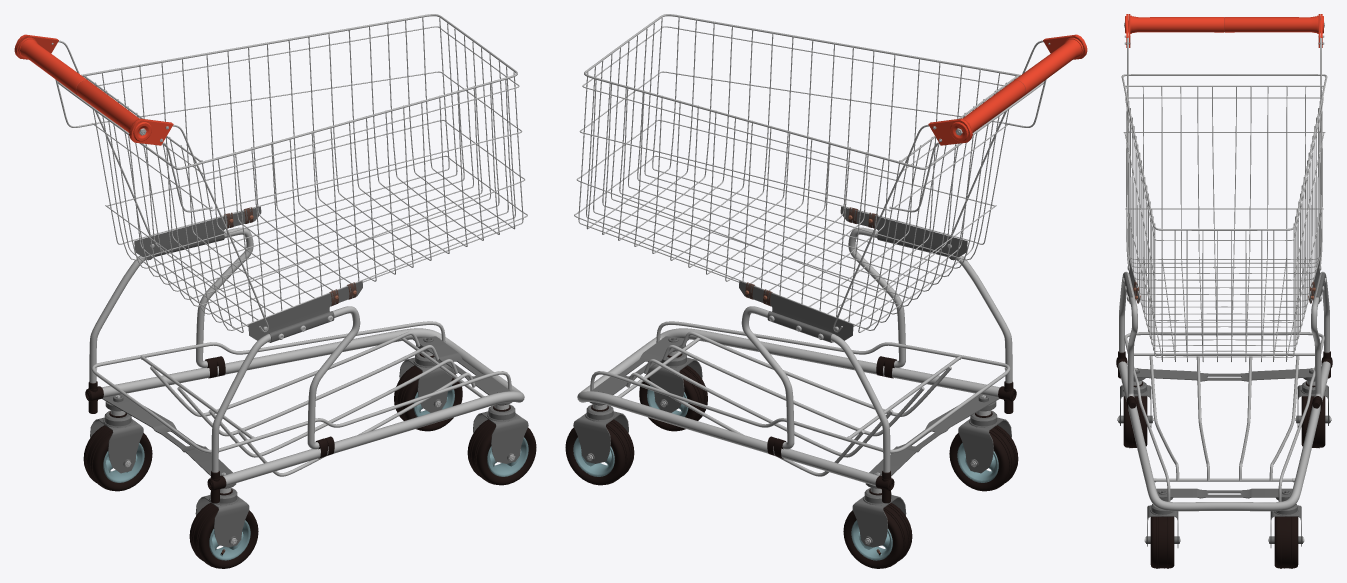
File: telegka.fbx
3 views of the same model, side by side, from view 1: azimuth 30°, elevation 25°; view 2: azimuth 150°, elevation 25°; view 3: azimuth 270°, elevation 25° (orthographic). The views are drawn at different scales.
Visible parts, largest first — view 1: BezierCurve.020, BezierCurve.004, BezierCurve, Plane.001, BezierCurve.003, BezierCurve.001, Cylinder.045, Cylinder.008, Plane.003, Cylinder.028, Plane.004, Plane.006 (+7 smaller); view 2: BezierCurve.020, BezierCurve.004, BezierCurve, Plane.001, BezierCurve.003, BezierCurve.001, Cylinder.045, Cylinder.008, Plane.003, Cylinder.028, Plane.004, Plane.006 (+7 smaller); view 3: BezierCurve.020, BezierCurve.004, Cylinder.008, Cylinder.028, BezierCurve, BezierCurve.003, BezierCurve.001, Cylinder.045, Plane.006, Plane.005, BezierCurve.033, BezierCurve.008 (+9 smaller).
Part boxes in pixels (x1,y1,x2,y2): BezierCurve.020: [57, 14, 527, 332]; BezierCurve.004: [102, 328, 524, 485]; BezierCurve: [89, 227, 360, 472]; Plane.001: [134, 206, 362, 342]; BezierCurve.003: [150, 331, 475, 476]; BezierCurve.001: [91, 321, 511, 453]; Cylinder.045: [83, 425, 258, 568]; Cylinder.008: [20, 39, 151, 141]; Plane.003: [90, 417, 249, 547]; Cylinder.028: [394, 365, 536, 485]; Plane.004: [399, 357, 528, 463]; Plane.006: [102, 394, 232, 475]; BezierCurve.020: [574, 14, 1044, 332]; BezierCurve.004: [577, 328, 999, 485]; BezierCurve: [741, 227, 1012, 472]; Plane.001: [739, 206, 967, 342]; BezierCurve.003: [626, 331, 951, 476]; BezierCurve.001: [590, 321, 1010, 453]; Cylinder.045: [843, 425, 1018, 568]; Cylinder.008: [950, 39, 1081, 141]; Plane.003: [852, 417, 1011, 547]; Cylinder.028: [565, 365, 707, 485]; Plane.004: [573, 357, 702, 463]; Plane.006: [869, 394, 999, 476]; BezierCurve.020: [1121, 74, 1327, 361]; BezierCurve.004: [1118, 361, 1330, 511]; Cylinder.008: [1125, 16, 1323, 33]; Cylinder.028: [1150, 516, 1298, 568]; BezierCurve: [1119, 271, 1329, 396]; BezierCurve.003: [1149, 356, 1299, 480]; BezierCurve.001: [1124, 332, 1324, 501]; Cylinder.045: [1123, 396, 1325, 447]; Plane.006: [1133, 368, 1315, 381]; Plane.005: [1156, 488, 1292, 498]; BezierCurve.033: [1126, 16, 1322, 271]; BezierCurve.008: [1124, 132, 1324, 280].
Size of the model in its own units: 269 by 286 by 142.
